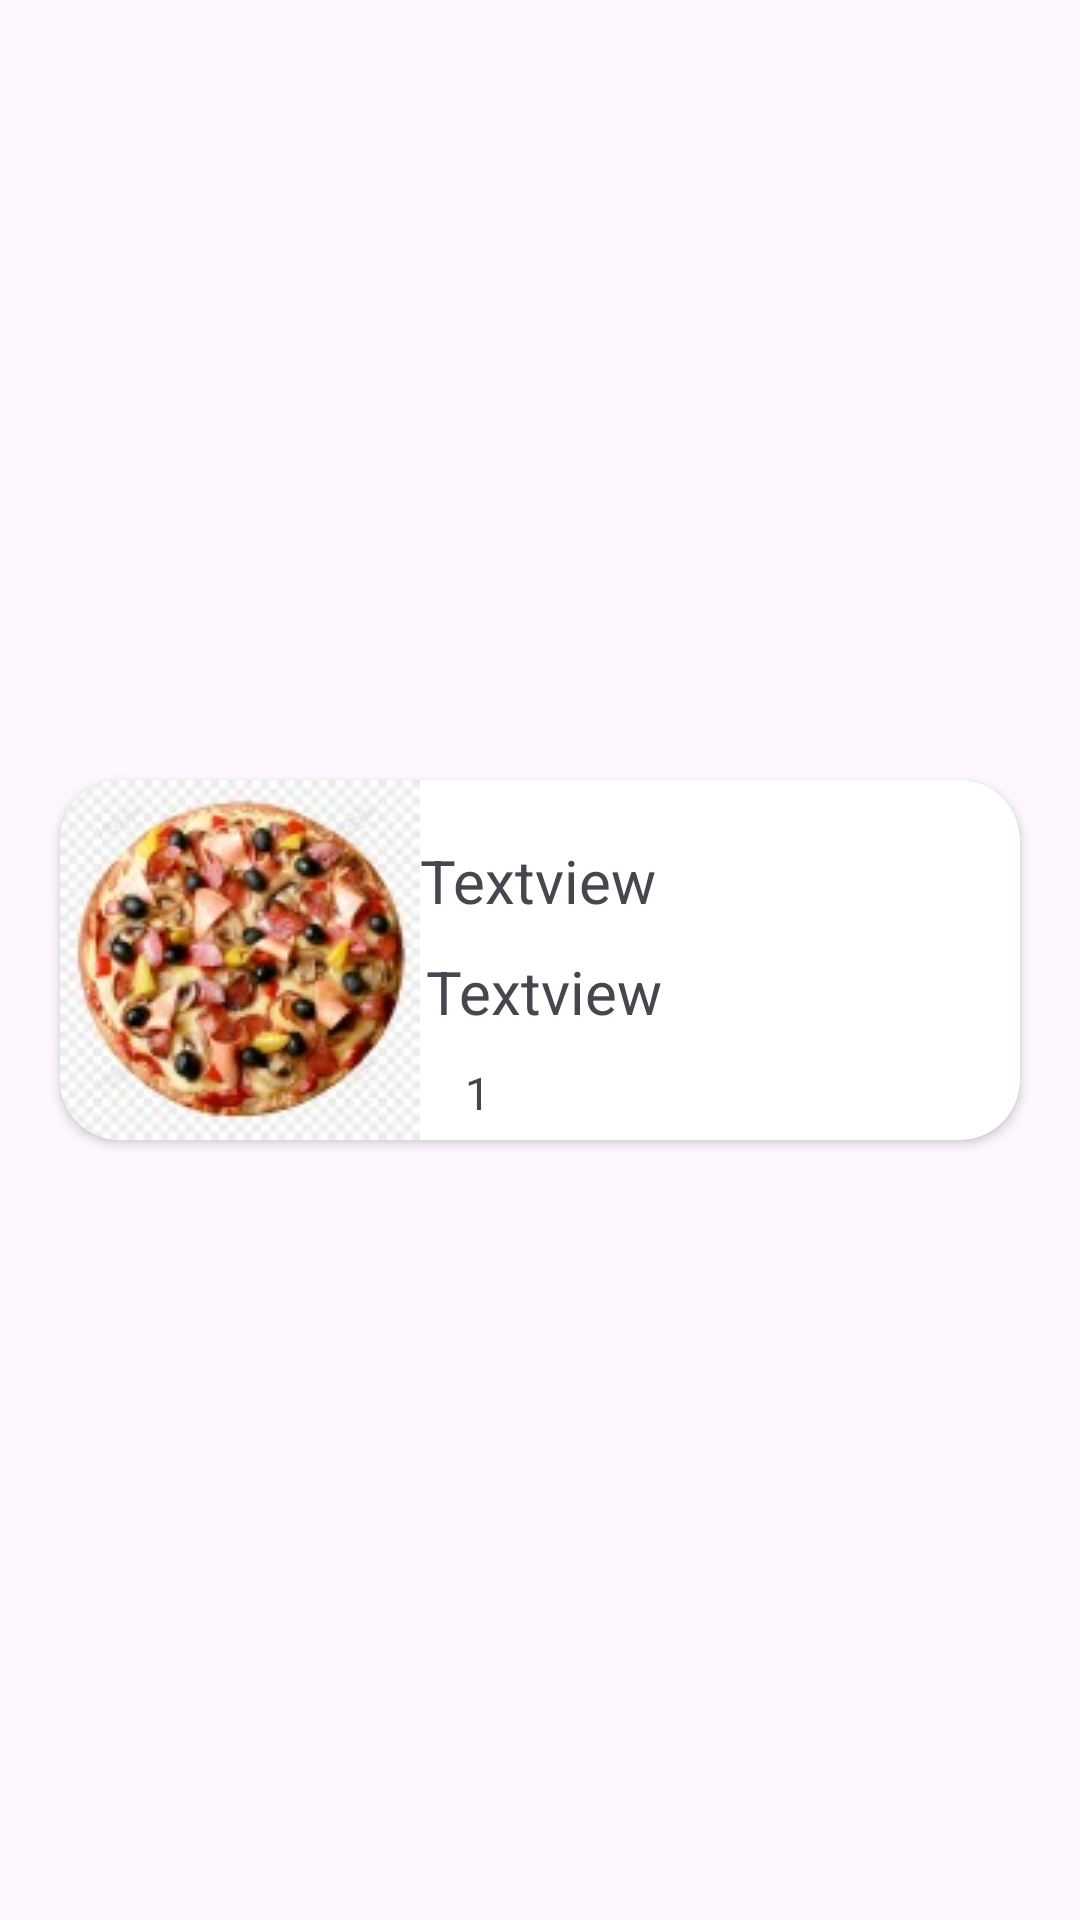

Icons on this 1080*1920 Android screen, each with the point to tap as point (x, y):
pizza: point (240, 950)
